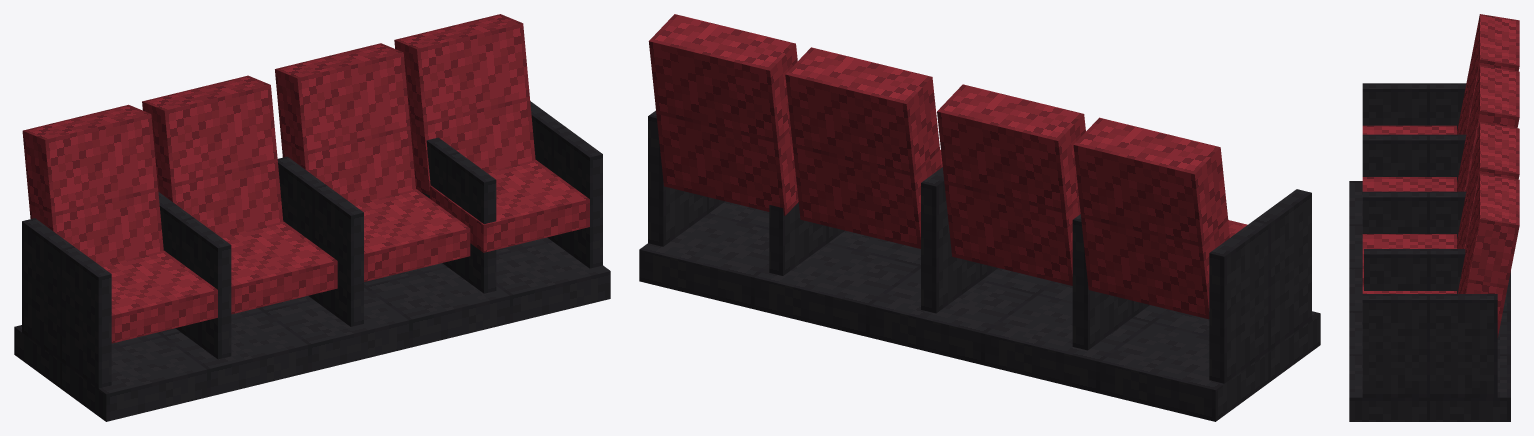
The model's file is cinemaSeats_0.glb.
3 views of the same model, side by side, from view 1: azimuth 30°, elevation 25°; view 2: azimuth 150°, elevation 25°; view 3: azimuth 270°, elevation 25° (orthographic). The views are drawn at different scales.
Parts seen in each view (by area): view 1: cinemaSeats_0; view 2: cinemaSeats_0; view 3: cinemaSeats_0.
Part boxes in pixels (x1=…): cinemaSeats_0: x1=14, y1=14, x2=610, y2=421; cinemaSeats_0: x1=639, y1=14, x2=1320, y2=421; cinemaSeats_0: x1=1349, y1=14, x2=1519, y2=421.
Size of the model in its own units: 2.38 by 1.01 by 0.7904.
Materials: 1 (1 with a texture image).
